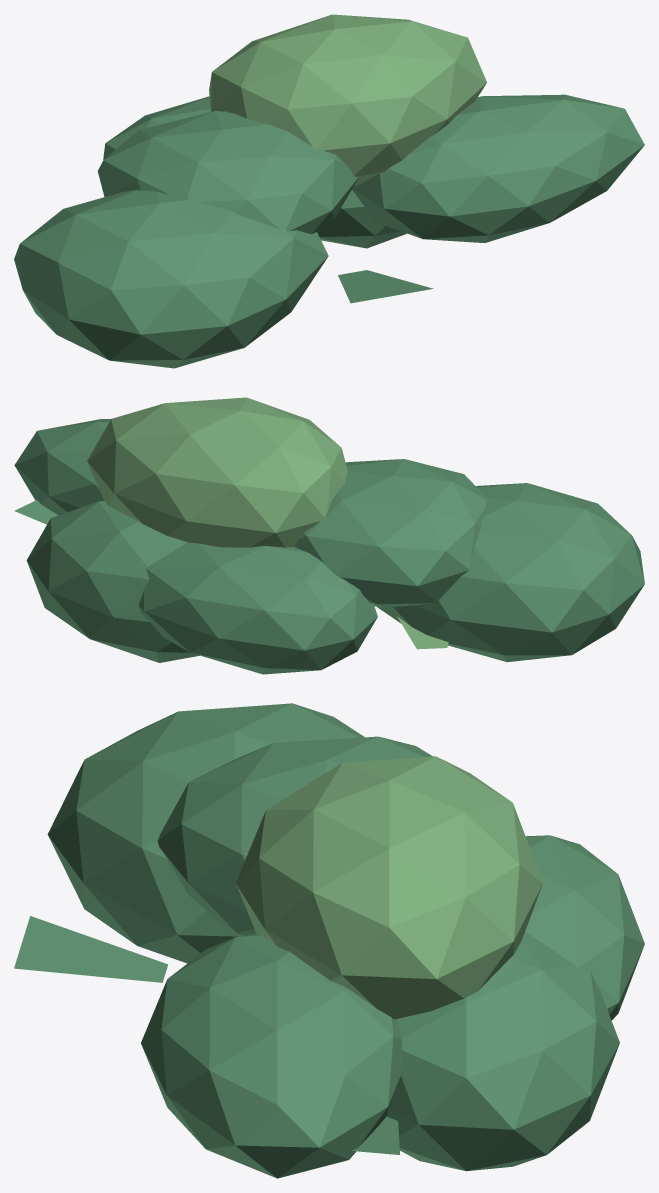
Rendered from myb_forest_canopy_mass_b.fbx.
The picture shows the model from 3 angles, top to bottom: view 1: azimuth 30°, elevation 25°; view 2: azimuth 150°, elevation 25°; view 3: azimuth 270°, elevation 25°; orthographic projection. The views are drawn at different scales.
Visible parts, largest first — view 1: myb_forest_canopy_mass_b; view 2: myb_forest_canopy_mass_b; view 3: myb_forest_canopy_mass_b.
Part boxes in pixels (x1,y1,x2,y2): myb_forest_canopy_mass_b: (14,14,644,368); myb_forest_canopy_mass_b: (14,397,644,674); myb_forest_canopy_mass_b: (14,703,644,1178).
Size of the model in its own units: 2.78 by 1.05 by 1.8.
